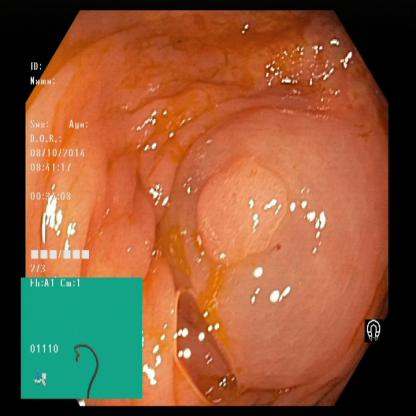Labels: (23, 55, 112, 277), (22, 278, 141, 401), (362, 312, 389, 348)
Polyps: (188, 168, 297, 255)
